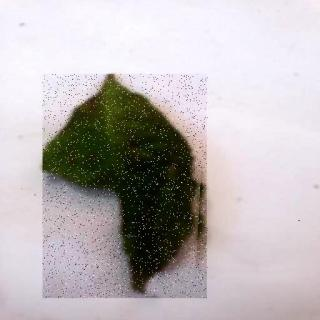Brown Blight: (44, 75, 209, 299)
